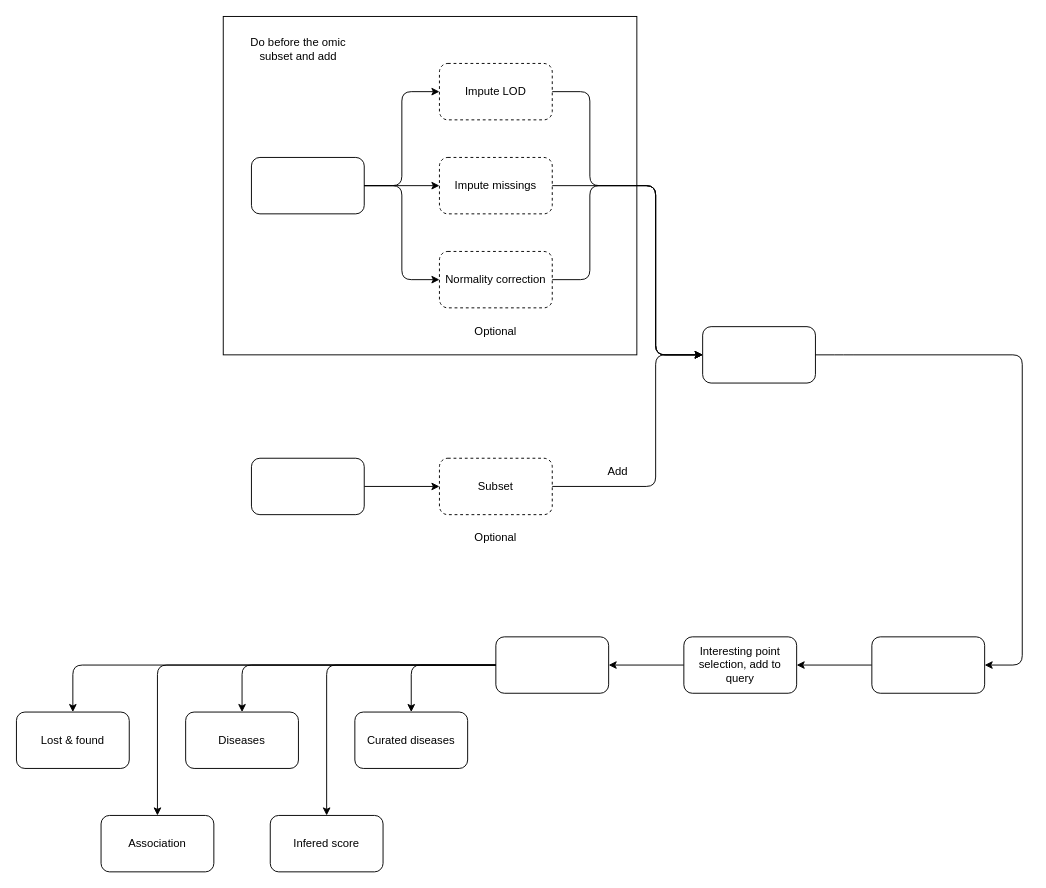
This 1046x888 diagram has some shape labels left out. The shapes that lost their labels are listed below. From the top down, each one's box as (x1, y1, x2, y2) in pixels, then its label:
(251, 157, 364, 214): Load exposome data
(702, 326, 815, 383): Choose model
(251, 457, 364, 515): Load omic data
(495, 636, 609, 693): CTD query
(871, 636, 985, 693): Volcan plot
